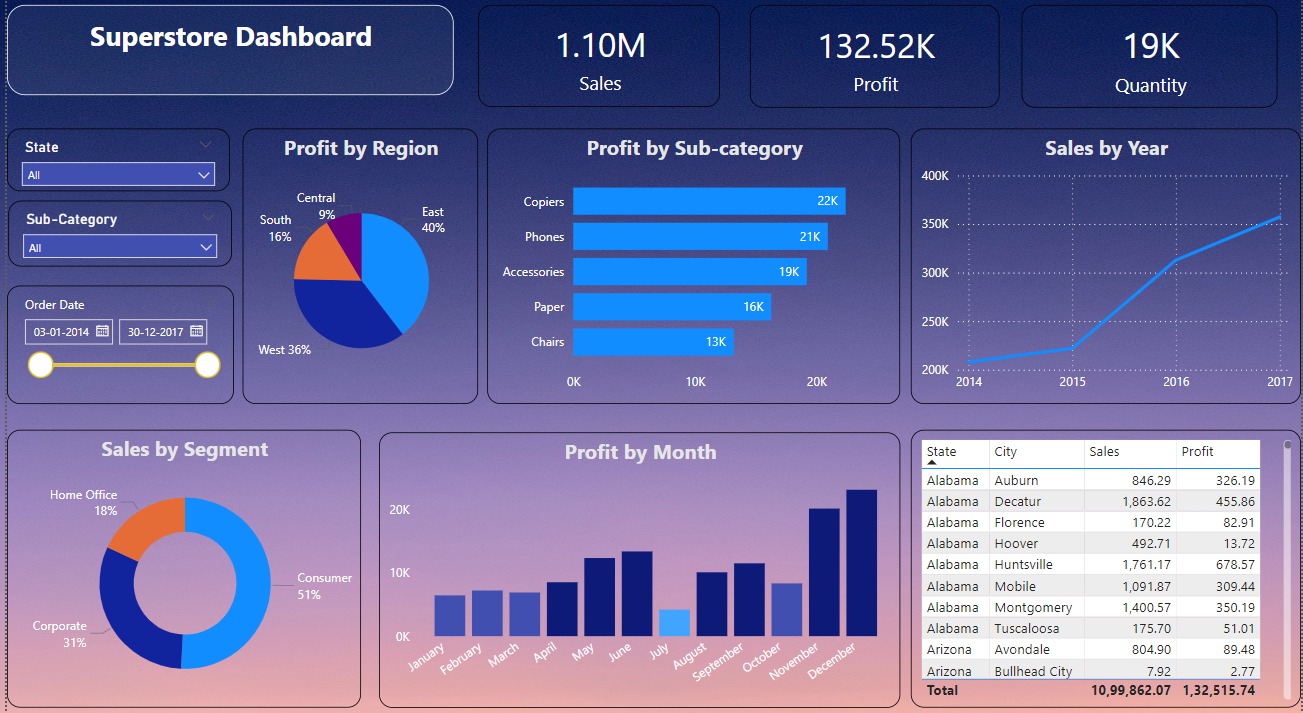

The dashboard page shown, as its layout file describes it:
{"tool":"powerbi","page":{"name":"Page 1","canvas":[1280,720],"ordinal":0},"visuals":[{"type":"columnChart","title":"Profit by Month","fields":{"Category":["Sample - Superstore.Order Date.Variation.Date Hierarchy.Month"],"Y":["Sum(Sample - Superstore.Profit)"]},"box":[368.1,435.6,515.8,272.6],"z":0},{"type":"clusteredBarChart","title":"Profit by Sub-category","fields":{"Category":["Sample - Superstore.Sub-Category"],"Y":["Sum(Sample - Superstore.Profit)"]},"box":[475.1,135,408.9,272.6],"z":1000},{"type":"card","fields":{"Values":["Sum(Sample - Superstore.Profit)"]},"box":[734.9,12.7,247.1,101.9],"z":2000},{"type":"card","fields":{"Values":["Sum(Sample - Superstore.Sales)"]},"box":[466.2,12.7,239.5,100.6],"z":3000},{"type":"card","fields":{"Values":["Sum(Sample - Superstore.Quantity)"]},"box":[1003.7,12.7,253.5,101.9],"z":4000},{"type":"textbox","box":[0,12.7,442,89.2],"z":5000},{"type":"slicer","fields":{"Values":["Sample - Superstore.State"]},"box":[0,135,220.4,62.4],"z":6000},{"type":"slicer","fields":{"Values":["Sample - Superstore.Order Date"]},"box":[0,290.4,224.2,117.2],"z":7000},{"type":"lineChart","title":"Sales by Year","fields":{"Category":["Sample - Superstore.Order Date.Variation.Date Hierarchy.Year"],"Y":["Sum(Sample - Superstore.Sales)"]},"box":[894.1,135,385.9,272.6],"z":8000},{"type":"slicer","fields":{"Values":["Sample - Superstore.Sub-Category"]},"box":[1.3,206.3,221.6,65],"z":9000},{"type":"tableEx","fields":{"Values":["Sample - Superstore.State","Sample - Superstore.City","Sum(Sample - Superstore.Sales)","Sum(Sample - Superstore.Profit)"]},"box":[894.1,433.1,385.9,275.1],"z":10000},{"type":"pieChart","title":"Profit by Region","fields":{"Category":["Sample - Superstore.Region"],"Y":["Sum(Sample - Superstore.Profit)"]},"box":[233.1,135,233.1,272.6],"z":11000},{"type":"donutChart","title":"Sales by Segment","fields":{"Y":["Sum(Sample - Superstore.Sales)"],"Category":["Sample - Superstore.Segment"]},"box":[0,433.1,350.3,275.1],"z":12000}]}

Visuals, with their boxes in screenshot pixels (x1, y1, x2, y2), scaled from the page's 1280x720 canvas onto the 1303x713 screenshot:
"Profit by Month" columnChart: left=375, top=431, right=900, bottom=701
"Profit by Sub-category" clusteredBarChart: left=484, top=134, right=900, bottom=404
card - Sum(Sample - Superstore.Profit): left=748, top=13, right=1000, bottom=113
card - Sum(Sample - Superstore.Sales): left=475, top=13, right=718, bottom=112
card - Sum(Sample - Superstore.Quantity): left=1022, top=13, right=1280, bottom=113
textbox: left=0, top=13, right=450, bottom=101
slicer - Sample - Superstore.State: left=0, top=134, right=224, bottom=195
slicer - Sample - Superstore.Order Date: left=0, top=288, right=228, bottom=404
"Sales by Year" lineChart: left=910, top=134, right=1302, bottom=404
slicer - Sample - Superstore.Sub-Category: left=1, top=204, right=227, bottom=269
tableEx - Sample - Superstore.State x Sample - Superstore.City: left=910, top=429, right=1302, bottom=701
"Profit by Region" pieChart: left=237, top=134, right=475, bottom=404
"Sales by Segment" donutChart: left=0, top=429, right=357, bottom=701
